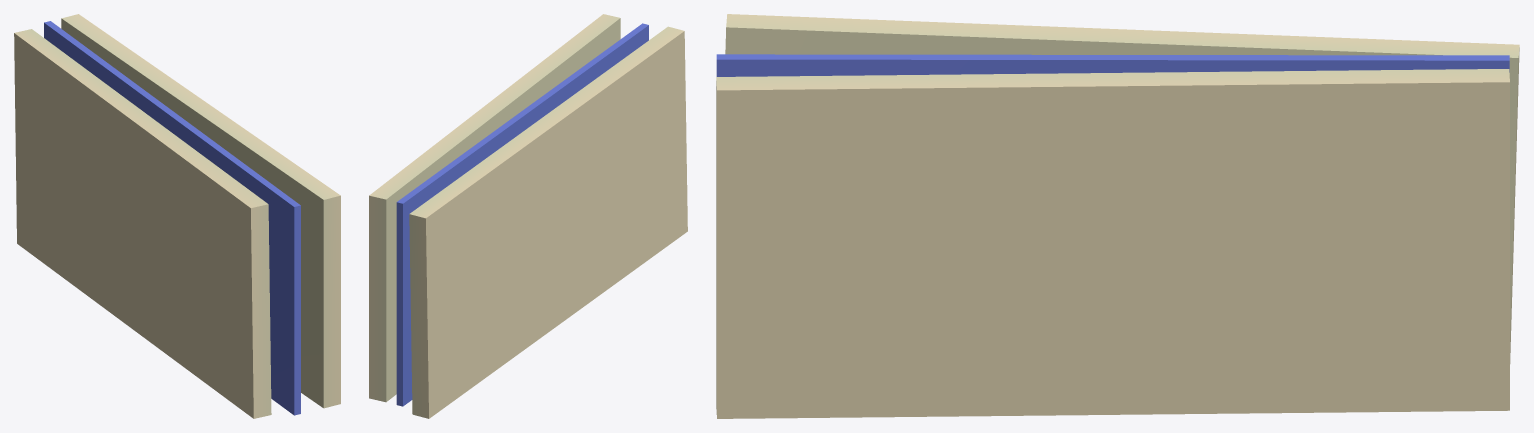
3 views of the same model, side by side, from view 1: azimuth 30°, elevation 25°; view 2: azimuth 150°, elevation 25°; view 3: azimuth 270°, elevation 25° (orthographic). The views are drawn at different scales.
Visible parts, largest first — view 1: slab.001, slab, sheet; view 2: slab.001, slab, sheet; view 3: slab, slab.001, sheet.
Boxes of the visible parts, box(x1,y1,x2,y2) form: slab.001: box(14, 29, 271, 418); slab: box(61, 14, 340, 408); sheet: box(44, 21, 300, 415); slab.001: box(409, 26, 687, 418); slab: box(369, 14, 620, 402); sheet: box(396, 23, 648, 406); slab: box(716, 69, 1509, 418); slab.001: box(725, 14, 1519, 363); sheet: box(716, 54, 1509, 76).
Size of the model in its own units: 0.065 by 0.1578 by 0.3302.
